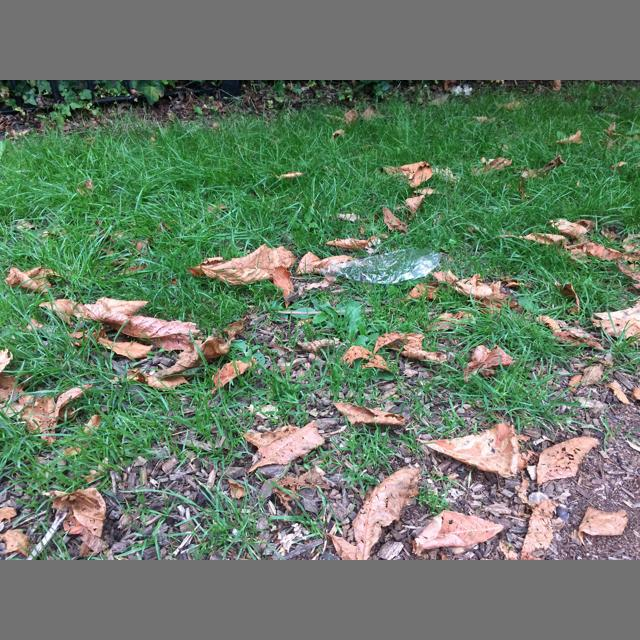litter: (322, 248, 441, 284)
